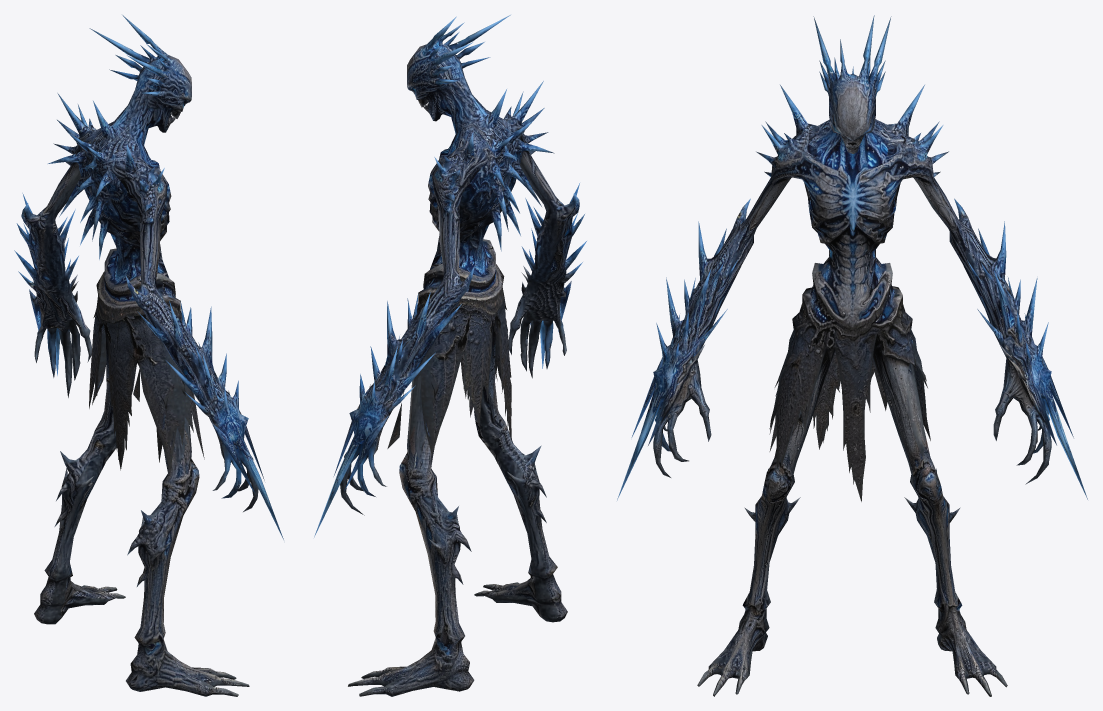
File: tripo_convert_a3ae4756-f26a-4c5e-a836-e3e1e45ce110.fbx
3 renders of one model, left to right at view 1: azimuth 30°, elevation 25°; view 2: azimuth 150°, elevation 25°; view 3: azimuth 270°, elevation 25°, orthographic. The views are drawn at different scales.
Parts seen in each view (by area): view 1: tripo_node_a3ae4756; view 2: tripo_node_a3ae4756; view 3: tripo_node_a3ae4756.
Boxes of the visible parts, x1,y1,x2,y2 form: tripo_node_a3ae4756: (14,15,283,696); tripo_node_a3ae4756: (314,15,586,696); tripo_node_a3ae4756: (617,15,1087,696).
Bounding box in the file's own units: 0.1973 × 0.998 × 0.6504.
1 material, 1 textured.
